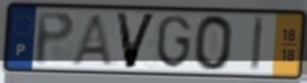A: (69, 12, 116, 69)
G: (155, 13, 193, 71)
I: (248, 15, 266, 74)
O: (193, 13, 235, 73)
P: (34, 10, 77, 68)
V: (113, 10, 160, 71)
